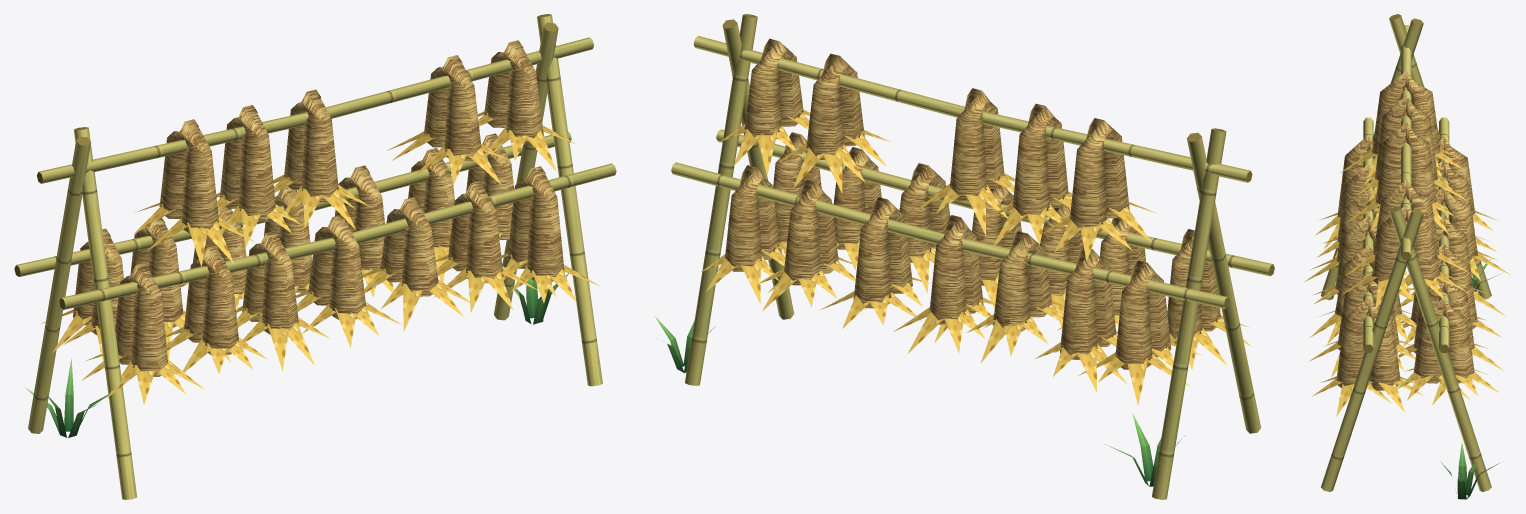
File: terrace_rack.glb
3 views of the same model, side by side, from view 1: azimuth 30°, elevation 25°; view 2: azimuth 150°, elevation 25°; view 3: azimuth 270°, elevation 25° (orthographic). The views are drawn at different scales.
Parts seen in each view (by area): view 1: terrace_rack_bamboo, terrace_rack_grain; view 2: terrace_rack_bamboo, terrace_rack_grain; view 3: terrace_rack_bamboo, terrace_rack_grain.
Boxes of the visible parts, bbox=[...] form: terrace_rack_bamboo: bbox=[14, 14, 616, 499]; terrace_rack_grain: bbox=[25, 111, 599, 437]; terrace_rack_bamboo: bbox=[671, 14, 1274, 499]; terrace_rack_grain: bbox=[654, 110, 1251, 486]; terrace_rack_bamboo: bbox=[1321, 14, 1491, 491]; terrace_rack_grain: bbox=[1304, 148, 1510, 499].
Bounding box in the file's own units: 2.9 × 1.64 × 1.1.
2 materials, 2 textured.
